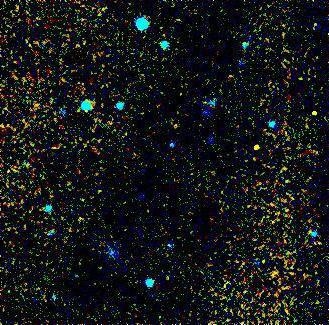star: (237, 128, 267, 158)
